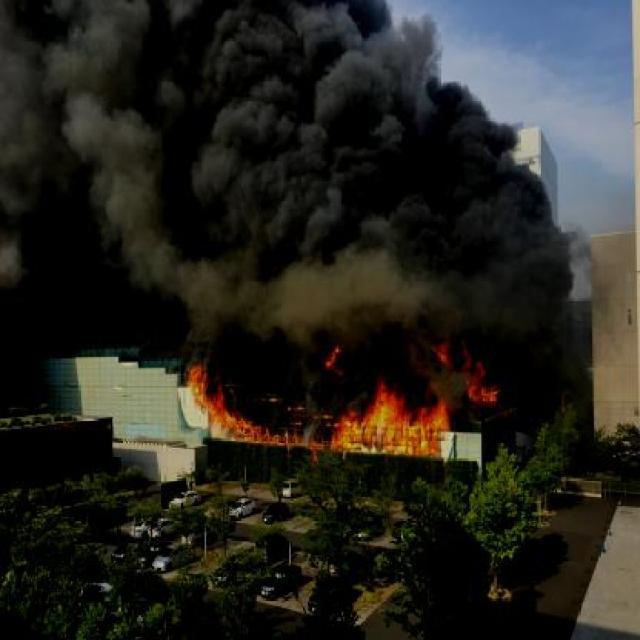Fire: (182, 333, 497, 458)
Smoke: (0, 0, 592, 335)
